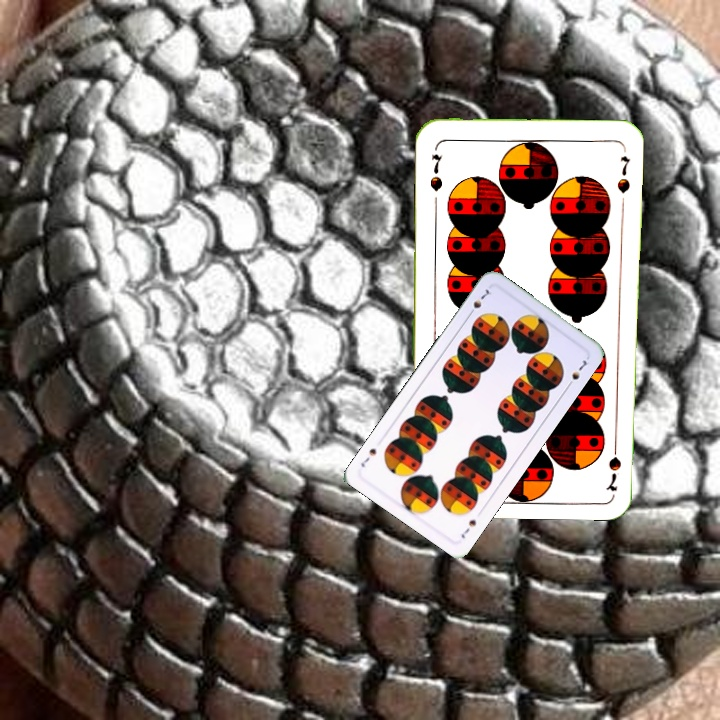S7: (603, 435, 623, 494), (464, 285, 494, 319), (425, 150, 446, 194), (457, 515, 479, 541)
